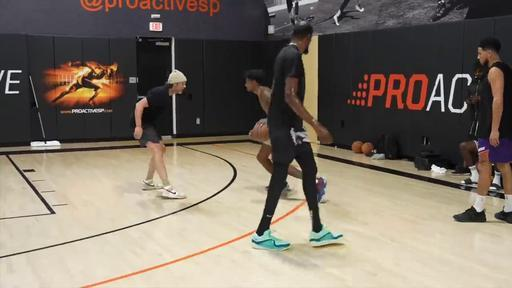ball: (253, 121, 270, 141), (362, 142, 373, 154), (352, 140, 362, 153)
human: (252, 20, 344, 252), (452, 36, 512, 222), (132, 69, 188, 200), (244, 68, 272, 190)
